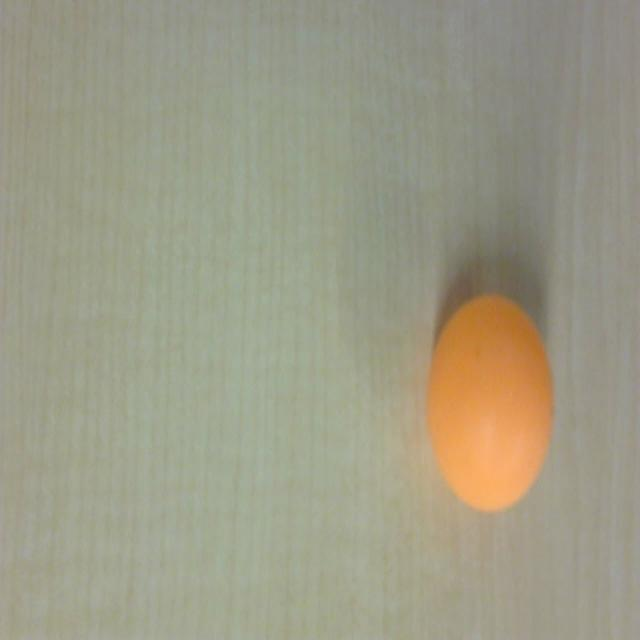ball: (427, 294, 553, 518)
